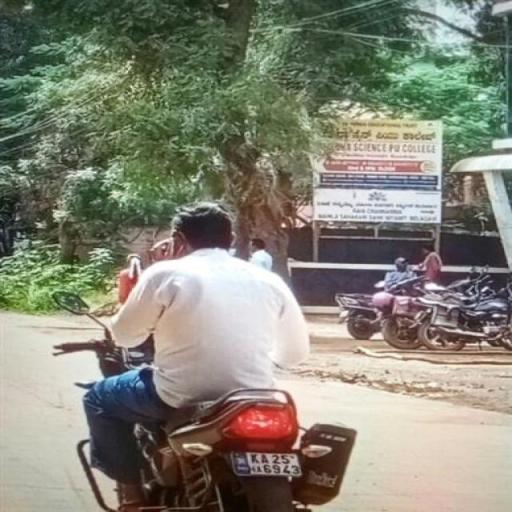numberplate: (232, 450, 304, 478)
using mobile: (148, 223, 199, 278)
